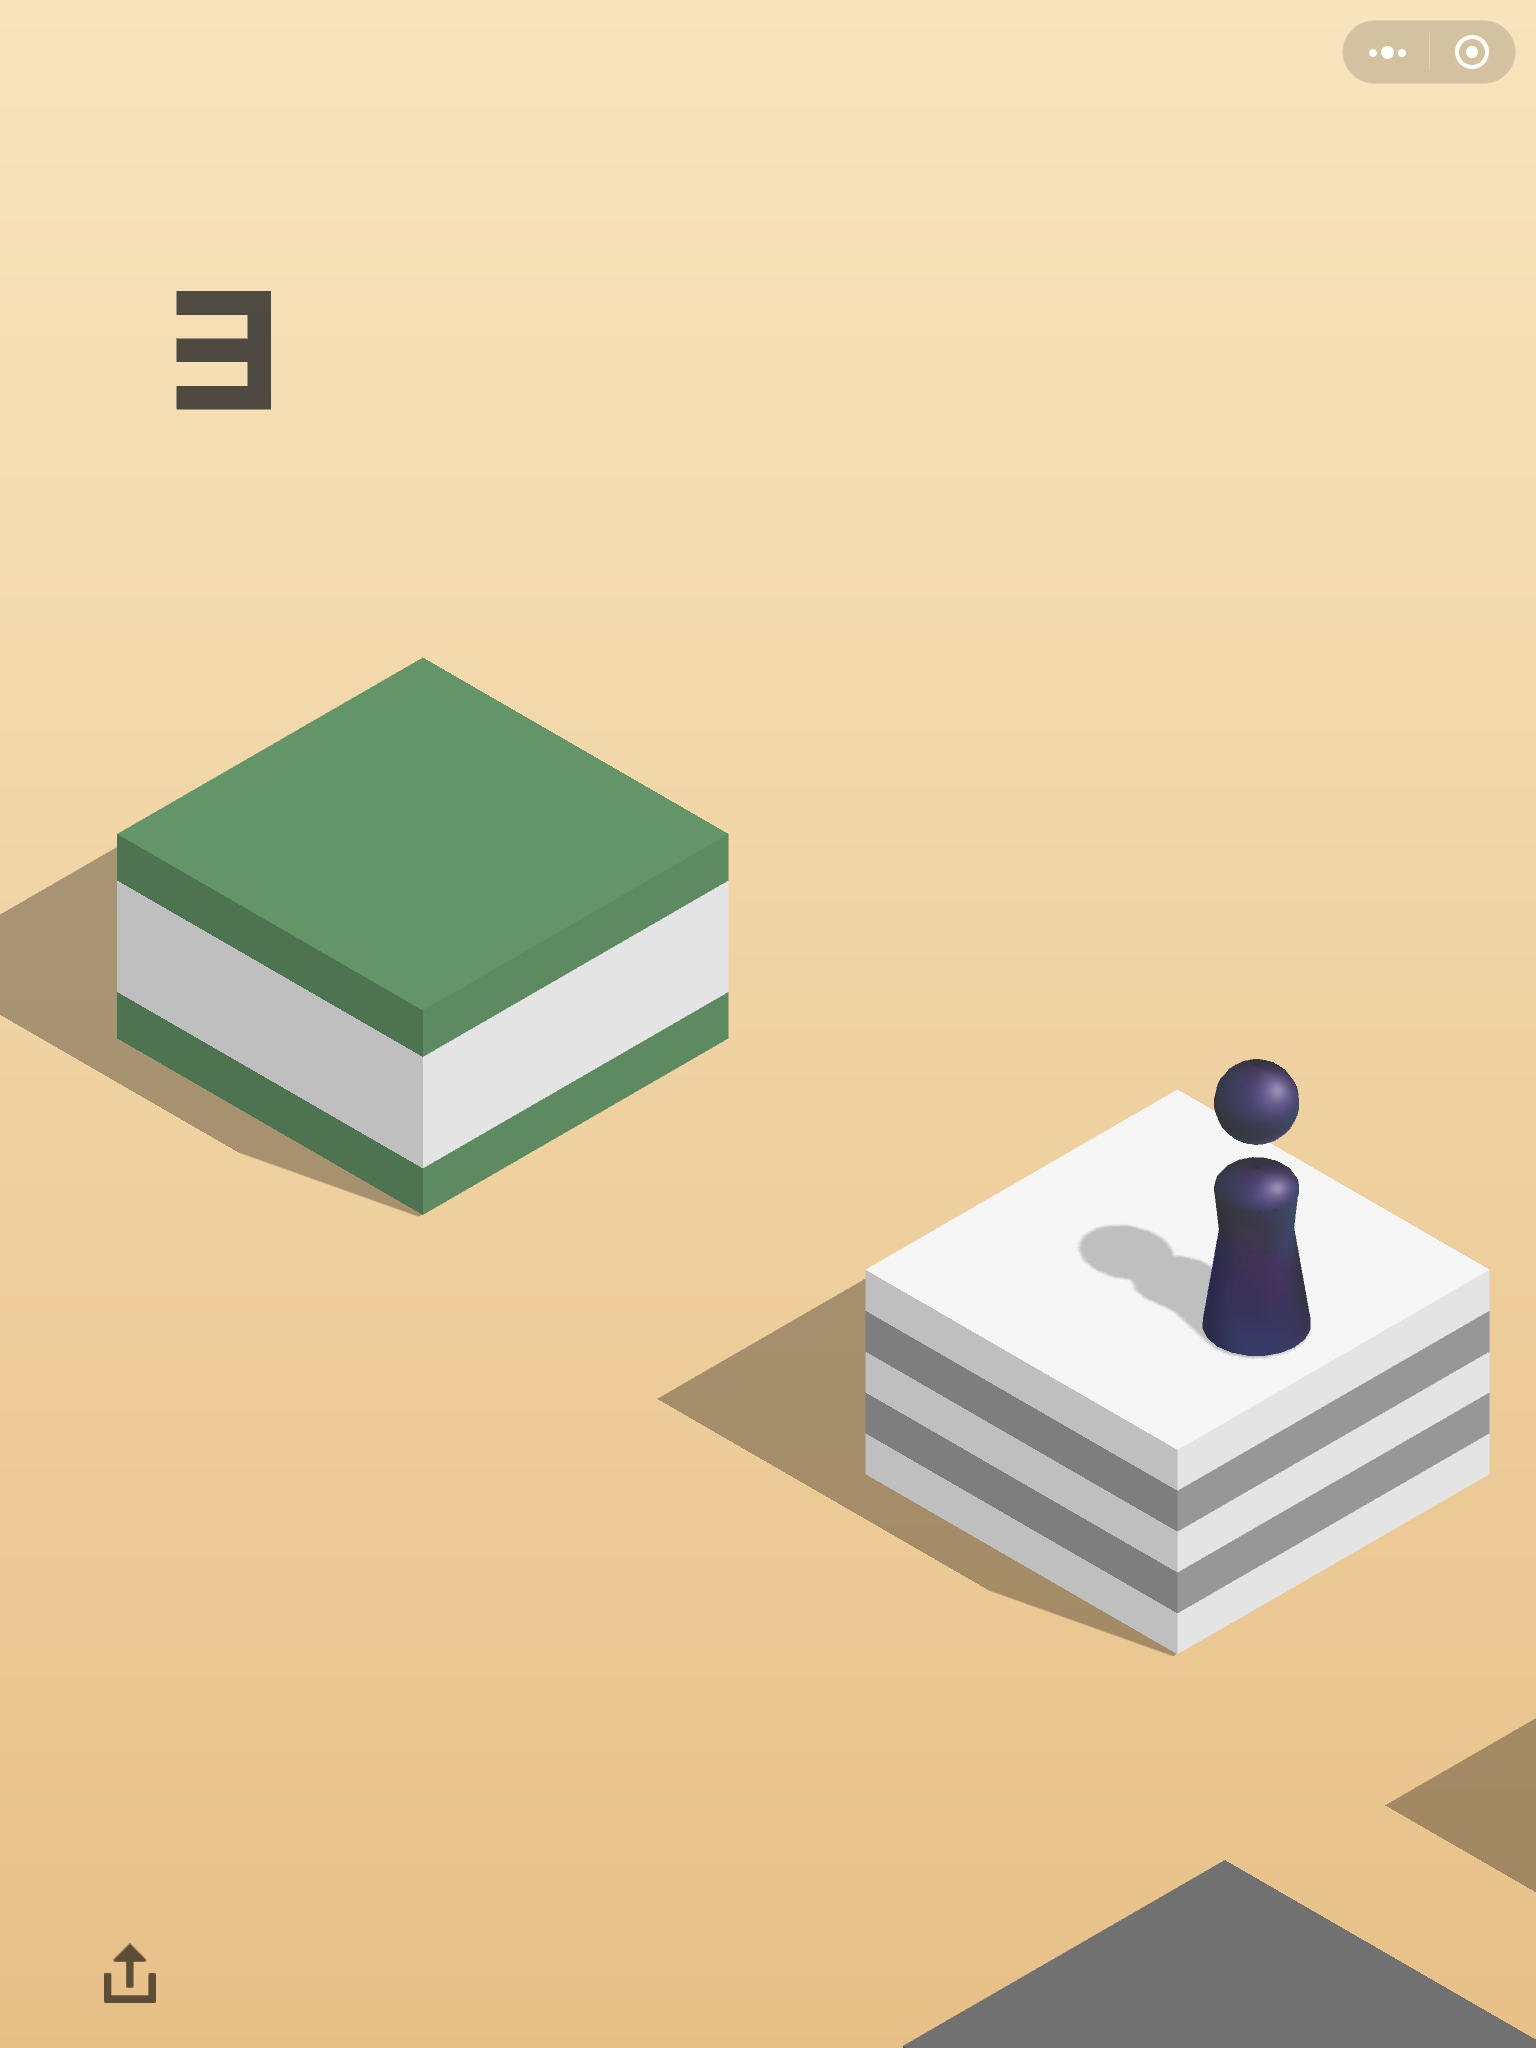f: (858, 1080, 1502, 1667), (110, 650, 741, 1219), (892, 1858, 1536, 2046)
r: (1197, 1050, 1318, 1359)
